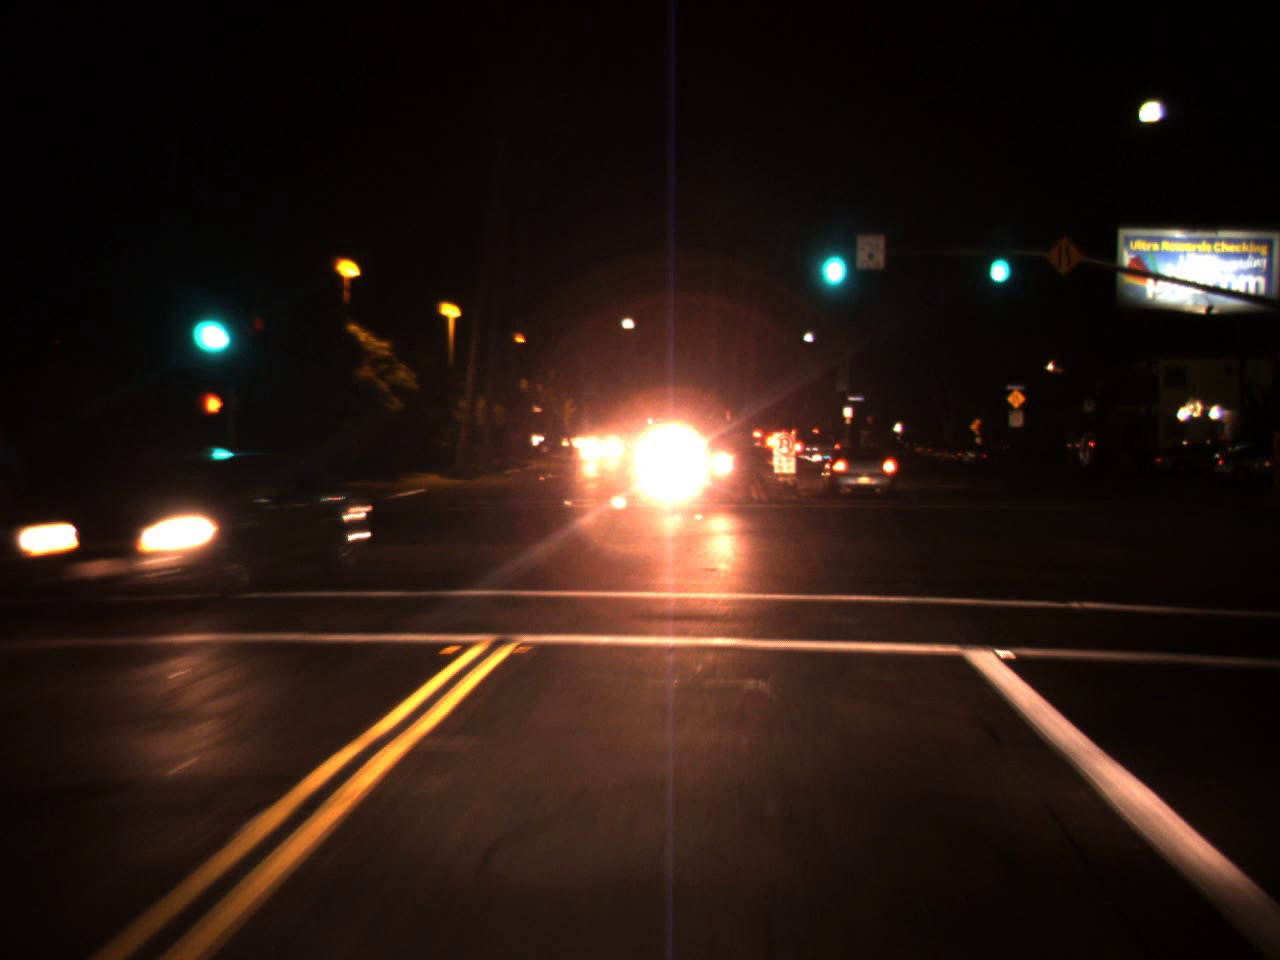go: (186, 282, 236, 363), (810, 216, 853, 297), (983, 227, 1013, 293)
